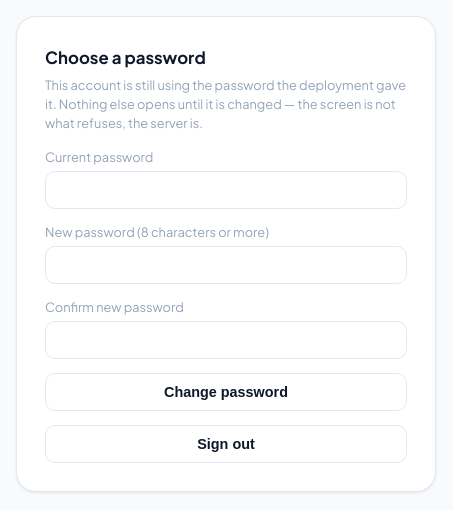
Test: what the page says before the server has said anything › does not answer for the server while the change is still out
The width and height of the screenshot is (453, 510).
Type "the-seeded-one" into the password field below "Current password". click: (226, 190)
box: x1=45 y1=171 x2=407 y2=209
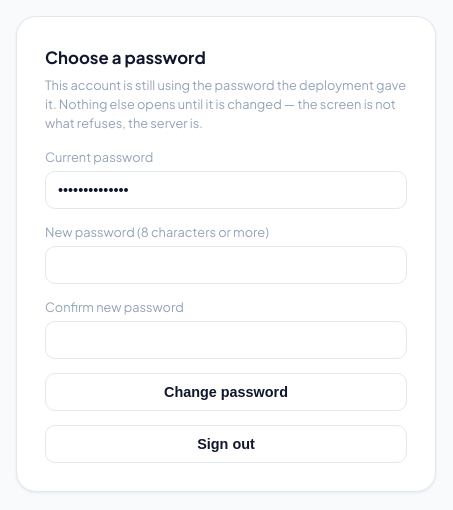
Type "chosen-by-the-operator" into the password field below "New password (8 characters or more)". click: (226, 265)
box: x1=45 y1=246 x2=407 y2=284
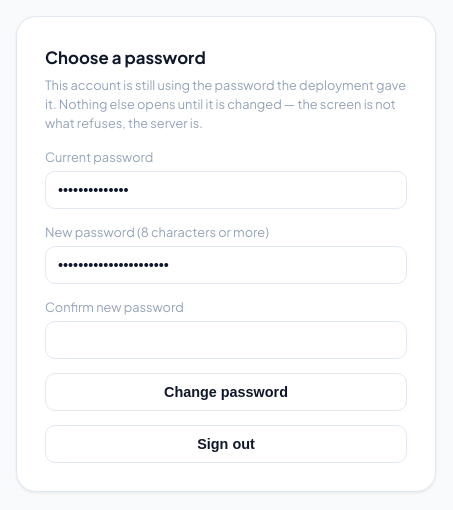
Type "chosen-by-the-operator" into the password field below "Confirm new password". click: (226, 340)
box: x1=45 y1=321 x2=407 y2=359
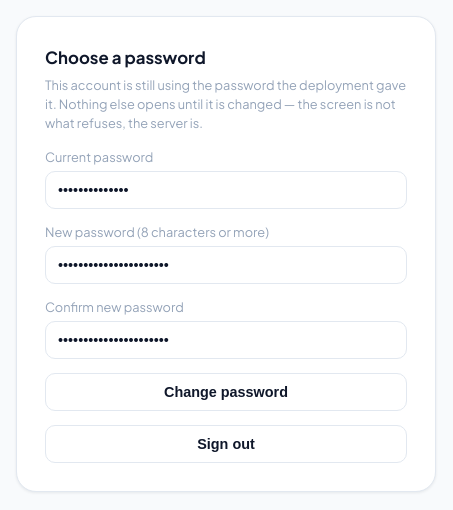
Click the submit button. click: (226, 392)
box: x1=45 y1=373 x2=407 y2=411
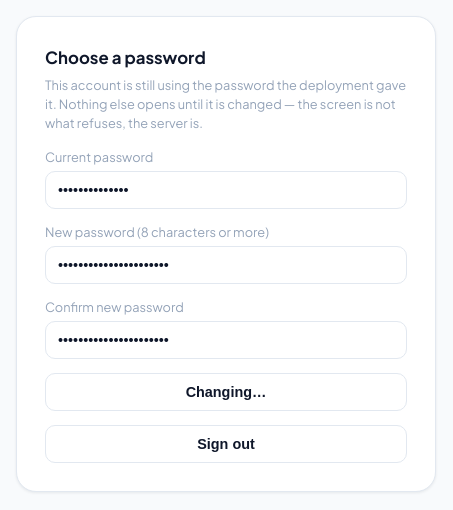
Expected: the submit button reads "Changing…", x1=45 y1=373 x2=407 y2=411
Expected: the submit button is disabled, x1=45 y1=373 x2=407 y2=411
